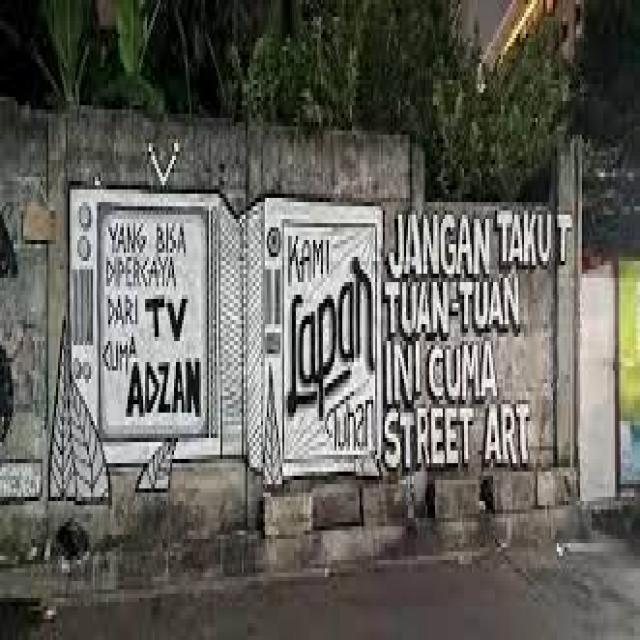-: (48, 187, 384, 505), (386, 210, 574, 476)
